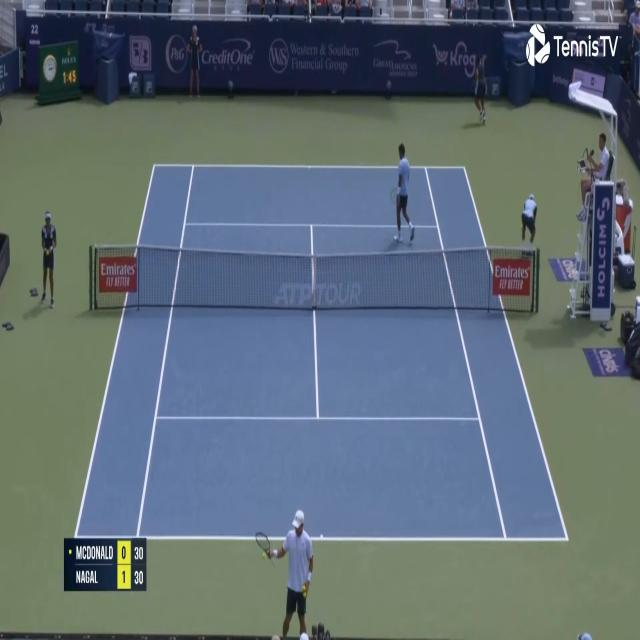tennis-player: (254, 505, 314, 636), (389, 141, 416, 245)
